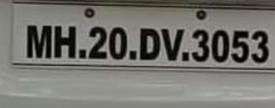0: (108, 24, 130, 62), (211, 27, 231, 64)
2: (86, 24, 108, 63)
3: (191, 25, 211, 66), (250, 28, 271, 67)
5: (232, 28, 251, 66)
D: (138, 26, 162, 65)
H: (53, 22, 78, 61)
M: (25, 22, 53, 61)
V: (160, 25, 186, 67)
